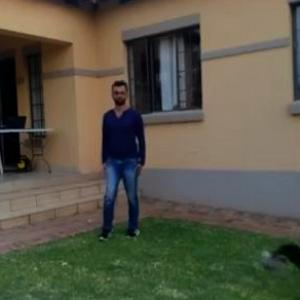follow: (110, 90, 157, 230)
